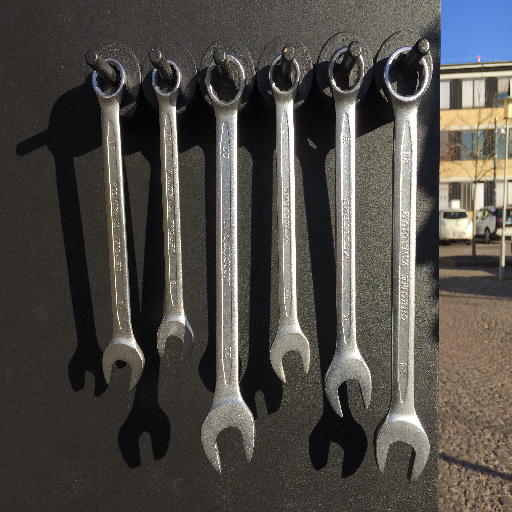bottom: (199, 396, 257, 473), (373, 410, 433, 482), (323, 350, 374, 418), (100, 337, 147, 391), (267, 328, 313, 383), (155, 315, 196, 363)
top: (381, 44, 431, 105), (204, 53, 248, 110), (326, 44, 367, 99), (89, 56, 129, 103), (267, 53, 302, 99), (149, 60, 185, 102)
